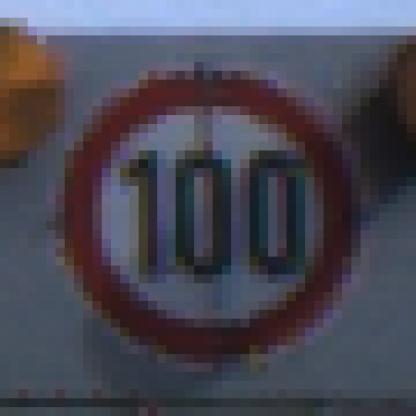Speed Limit 100: (74, 77, 356, 358)
